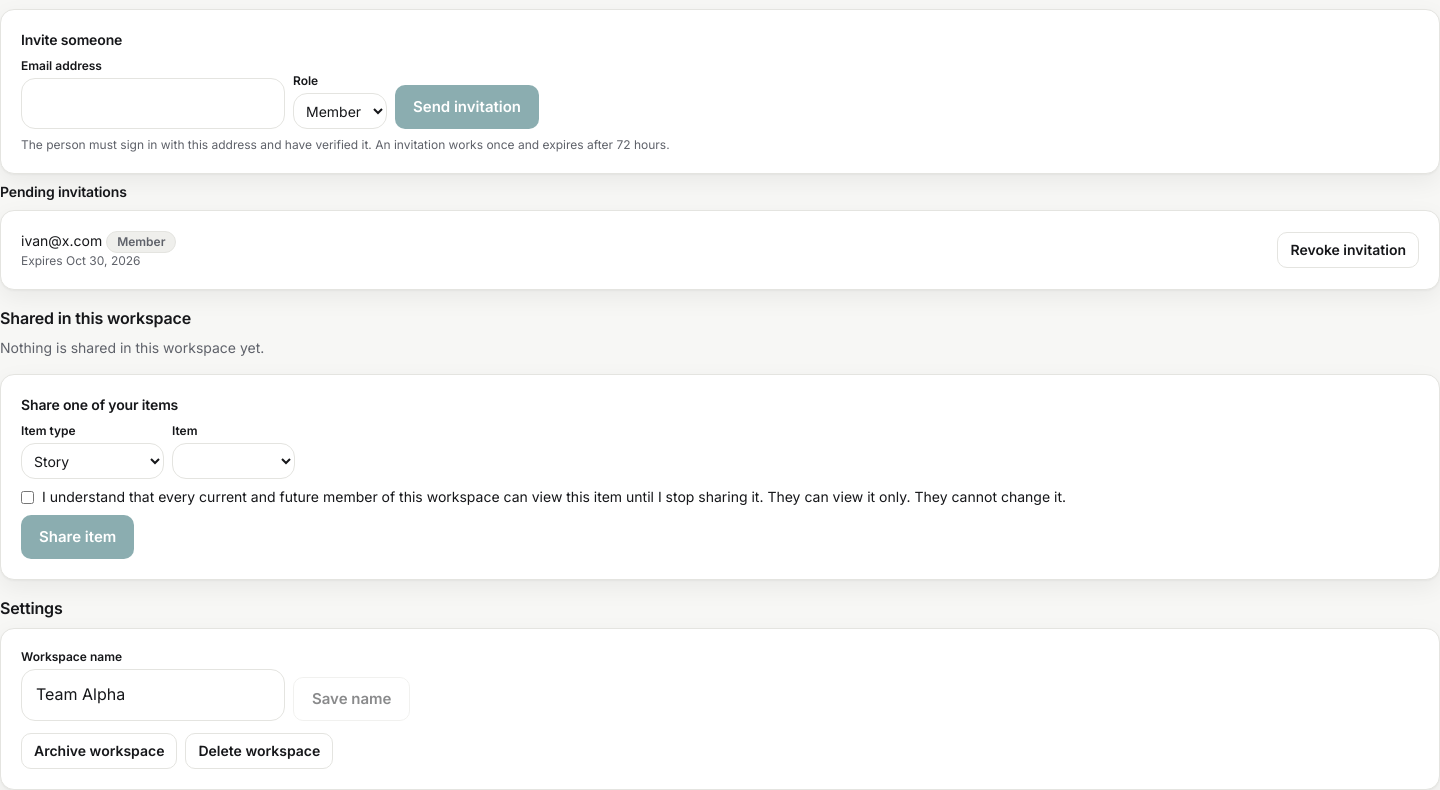
Test: Sharing into a workspace › needs an item AND the explicit consent acknowledgement, then sends consent=true (VIEW only)
(page scrolled)
Check: the button "Share item" is disabled, box [21,515,134,559]
Select "Led a launch" in the dropdown labelled "Item" at x=234, y=461, box [172,443,295,479]
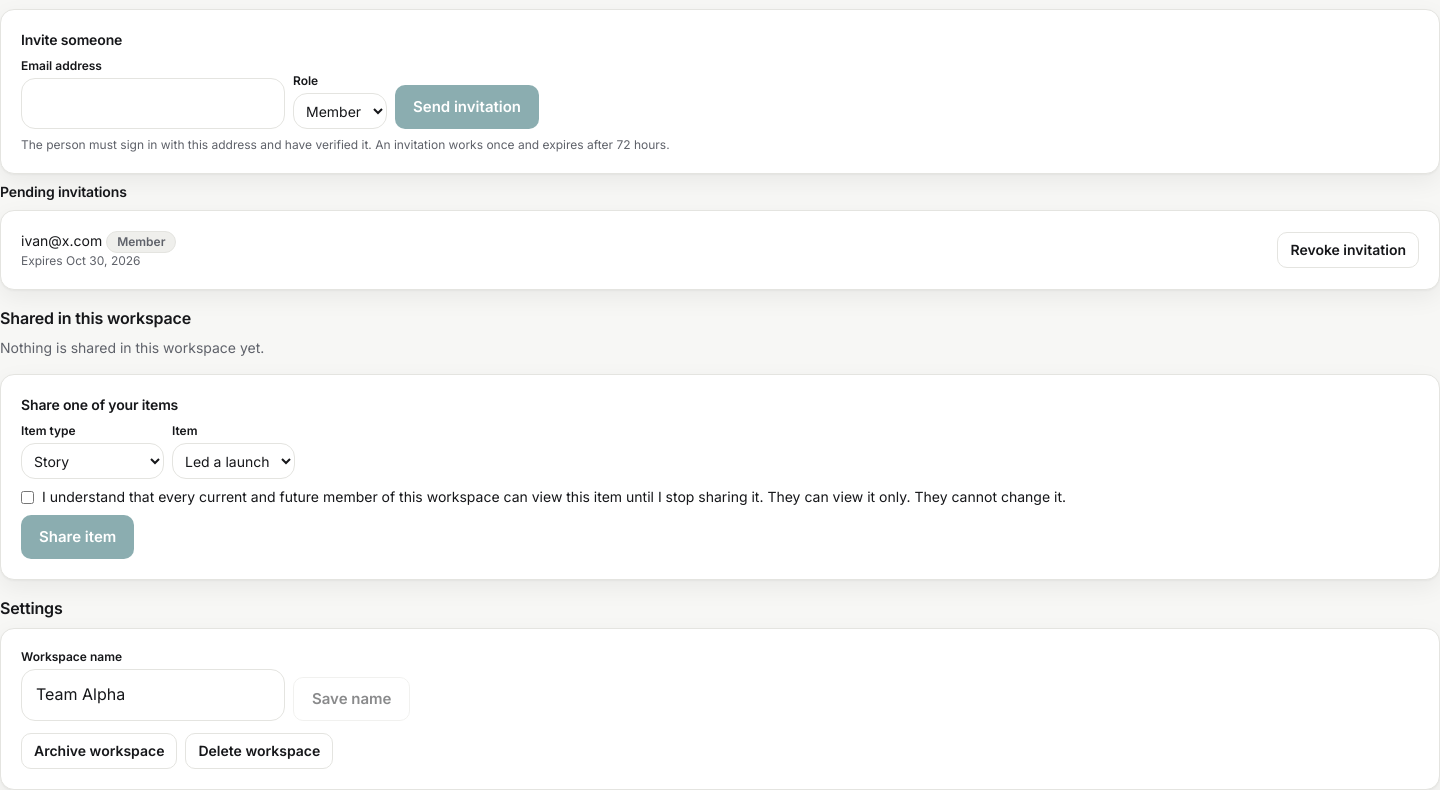
Check: the button "Share item" is disabled, box [21,515,134,559]
Click the checkbox named "I understand that every current and future member of this workspace can view this item until I stop sharing it. They can".
click(28, 498)  # box [21,491,34,504]
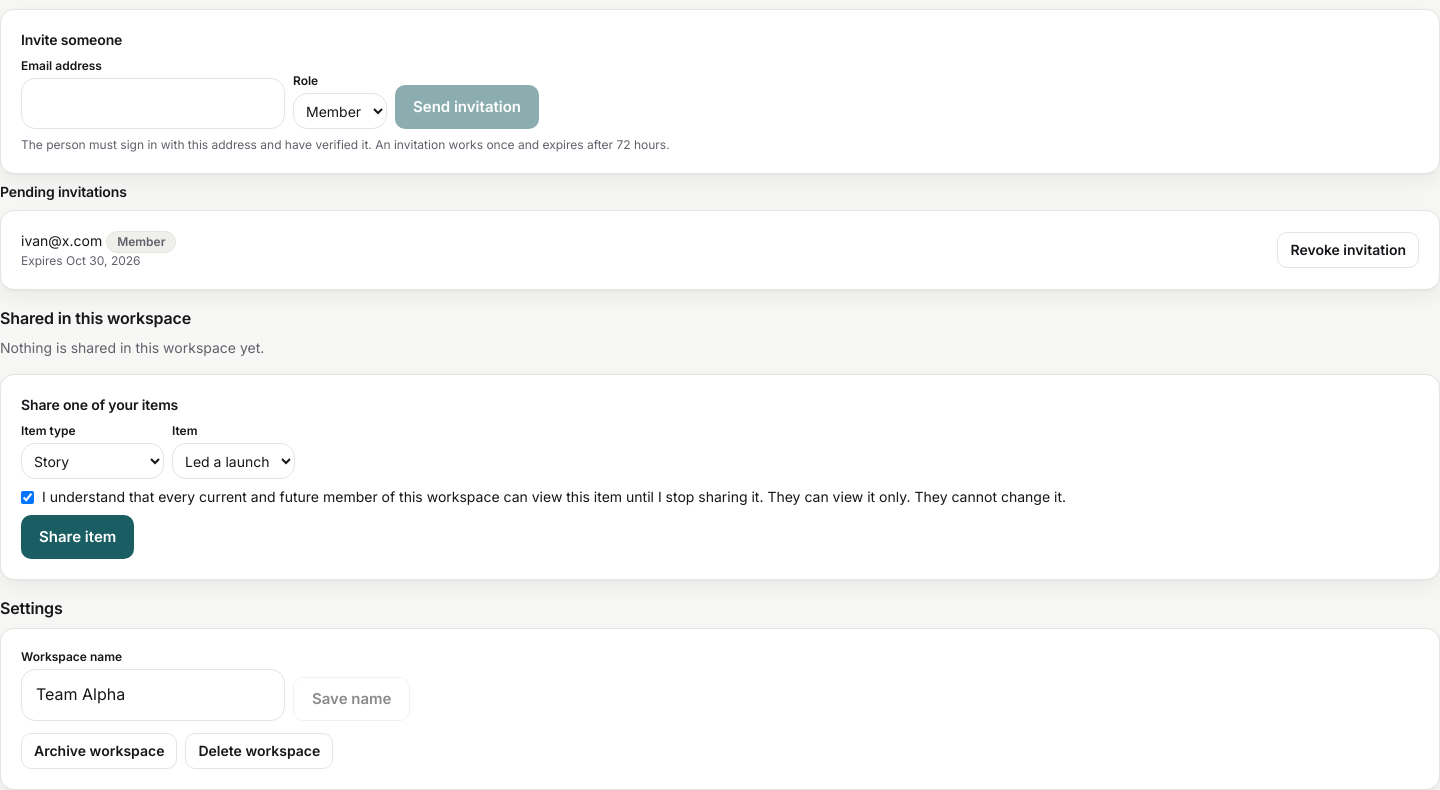
Check: the button "Share item" is enabled
Click the button "Share item".
click(78, 537)  # box [21,515,134,559]
(page scrolled)
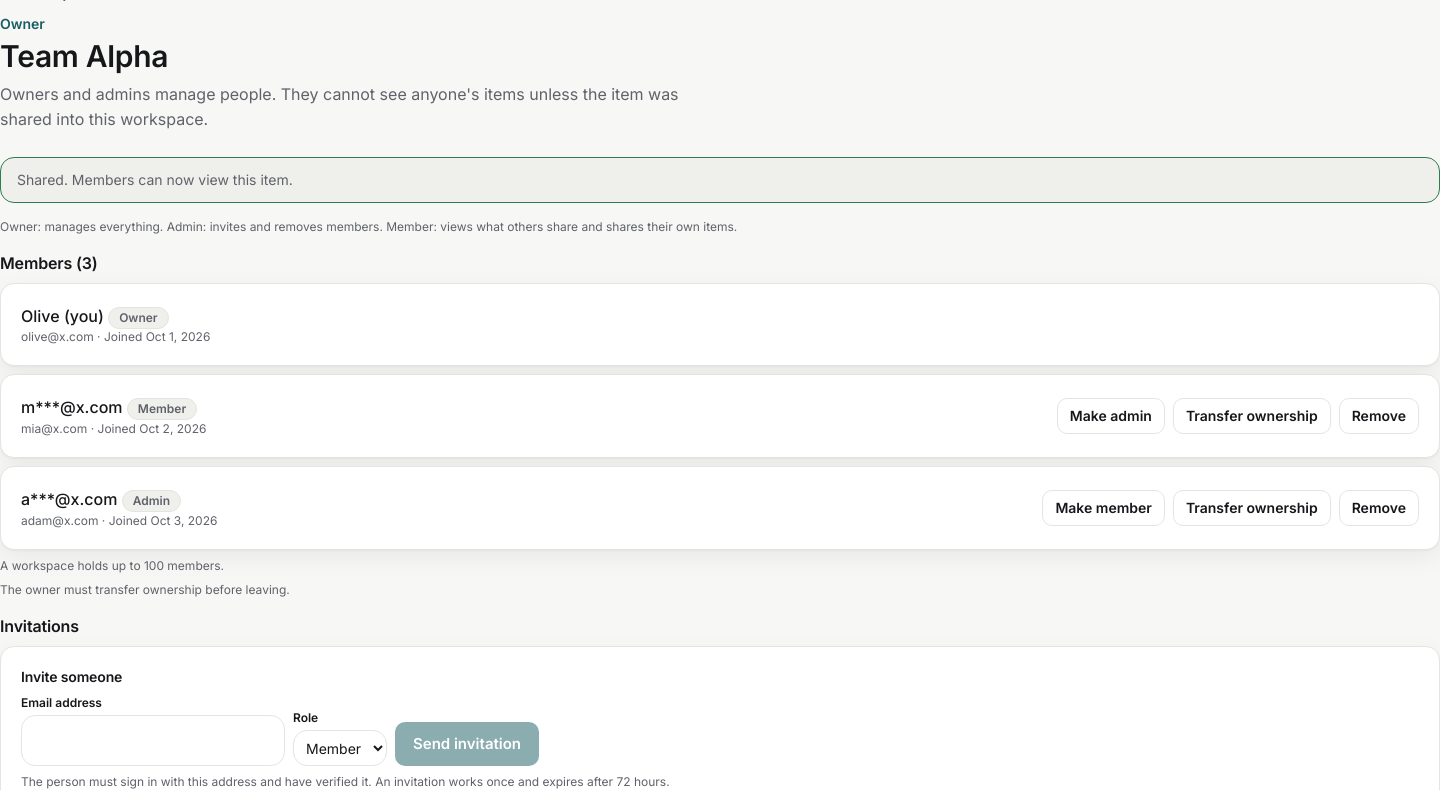
Check: the text "Shared. Members can now view this item." is shown, box [17,171,293,188]
